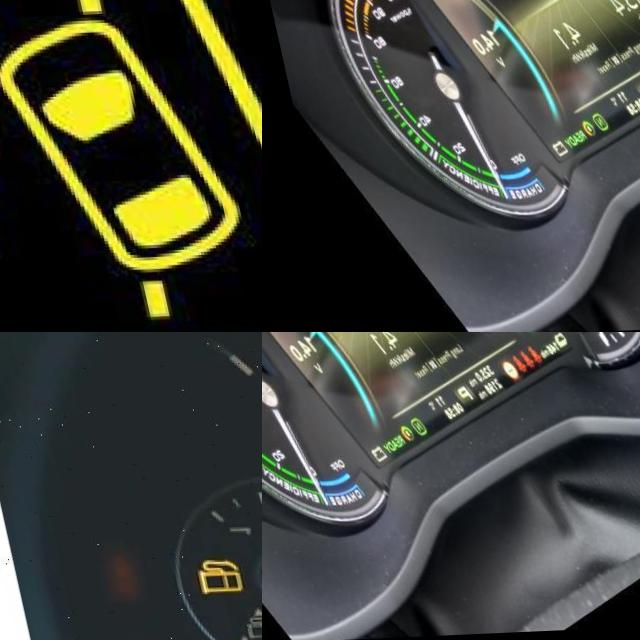Seat Belt: (503, 352, 519, 371), (512, 350, 529, 367), (496, 359, 510, 378)
